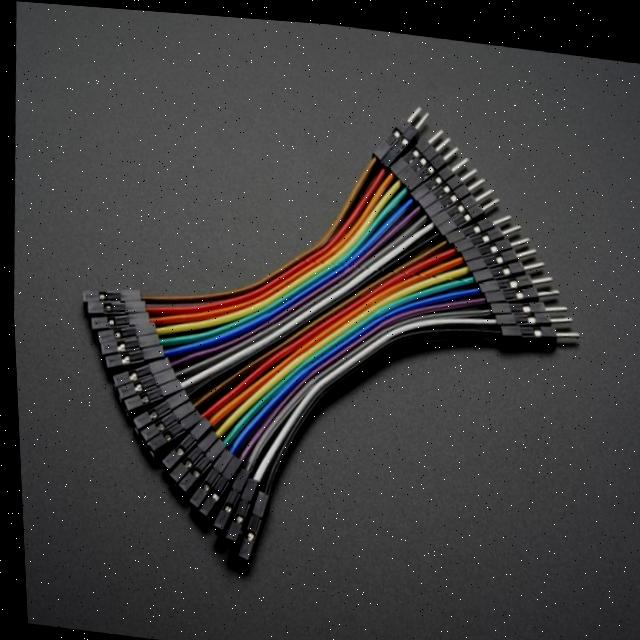Jumper Wires: (42, 68, 622, 610)
